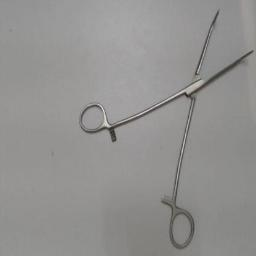Lahey Forceps: (76, 4, 254, 252)
